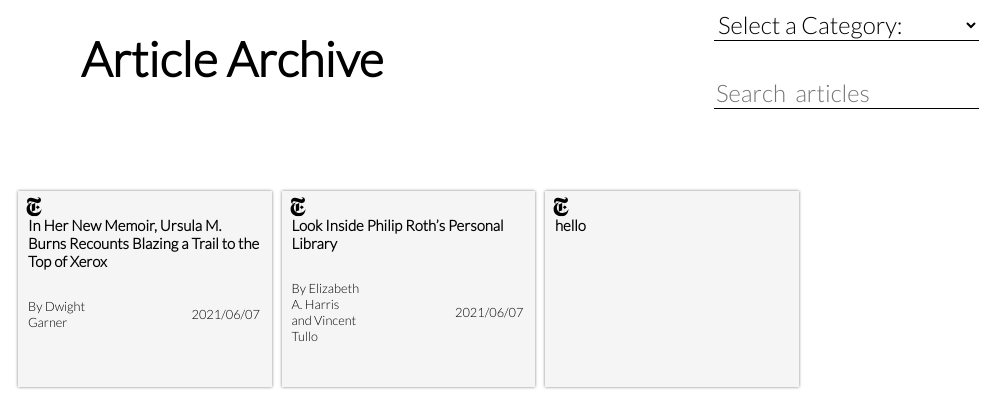
Test case: Article Archive › should show an apology message if there are no matching search results
In the field with placeholder "Search articles": (847,93) [714,77,979,109], type "help me im lost"
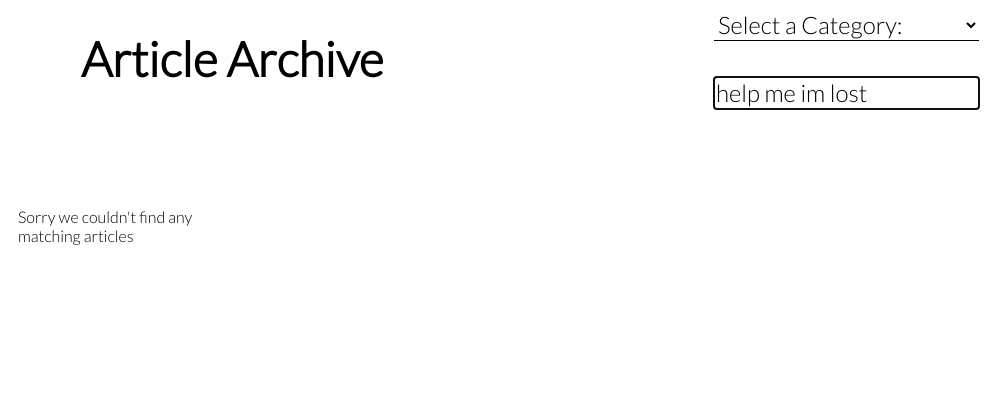
Now the element with class "articles" reads "Sorry we couldn't find any matching articles", box [18,207,192,245]
